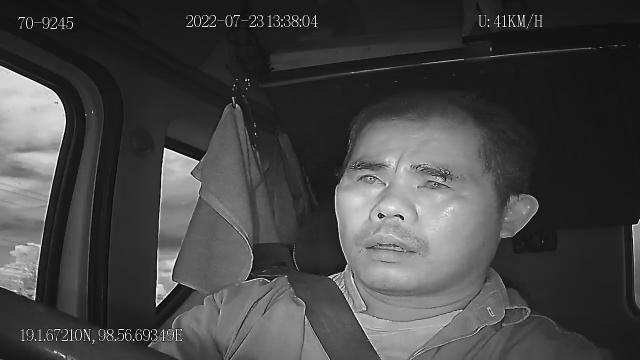SafeDriving: (408, 160, 461, 198), (349, 163, 391, 192)
Seatbelt: (286, 268, 384, 360)
